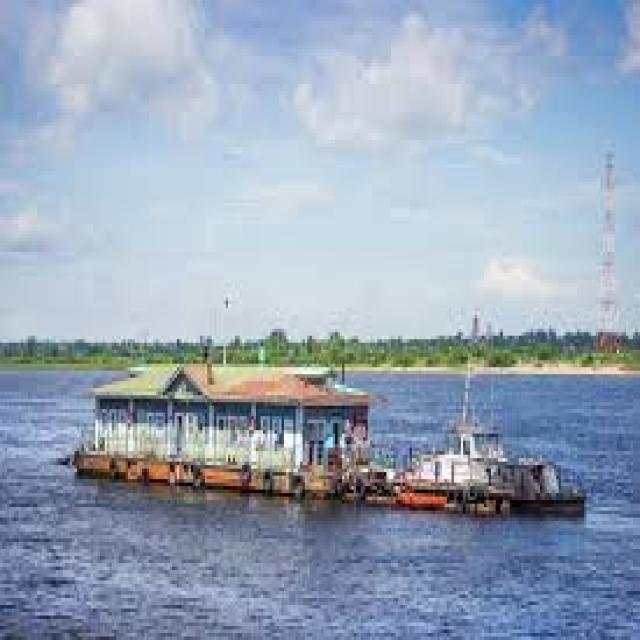houseboat: (65, 315, 592, 524)
